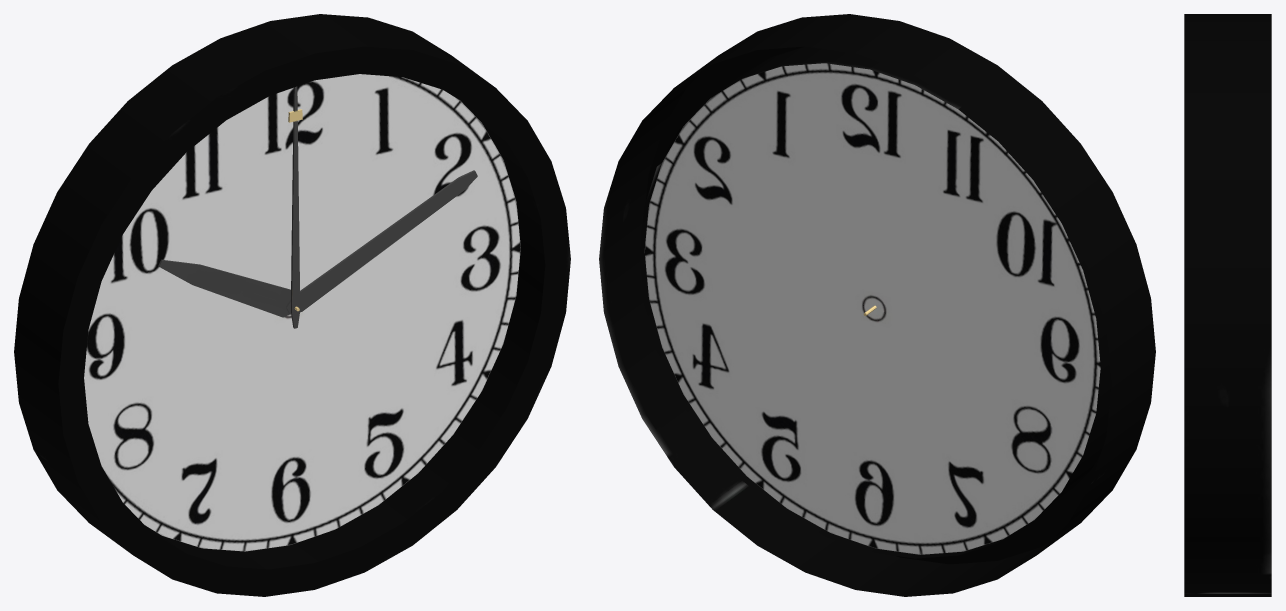
File: Clock.fbx
The picture shows the model from 3 angles, left to right: view 1: azimuth 30°, elevation 25°; view 2: azimuth 150°, elevation 25°; view 3: azimuth 270°, elevation 25°; orthographic projection.
Visible parts, largest first — view 1: Clock, Minute, Hour, Second; view 2: Clock; view 3: Clock.
Boxes of the visible parts, x1=… form: Clock: x1=14, y1=14, x2=570, y2=596; Minute: x1=286, y1=170, x2=477, y2=314; Hour: x1=158, y1=259, x2=290, y2=317; Second: x1=288, y1=86, x2=302, y2=328; Clock: x1=599, y1=14, x2=1155, y2=596; Clock: x1=1184, y1=14, x2=1271, y2=596.
Size of the model in its own units: 0.25 by 0.25 by 0.0375.
